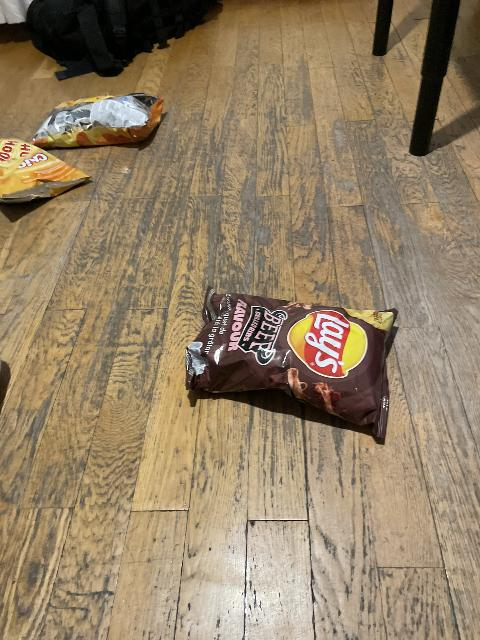Chio Cascaval 125g: (29, 94, 165, 148)
Chio Hula Hoops Cheese 70g: (0, 136, 93, 199)
Lays Beef Grilled Ribs 125g: (185, 289, 394, 439)
